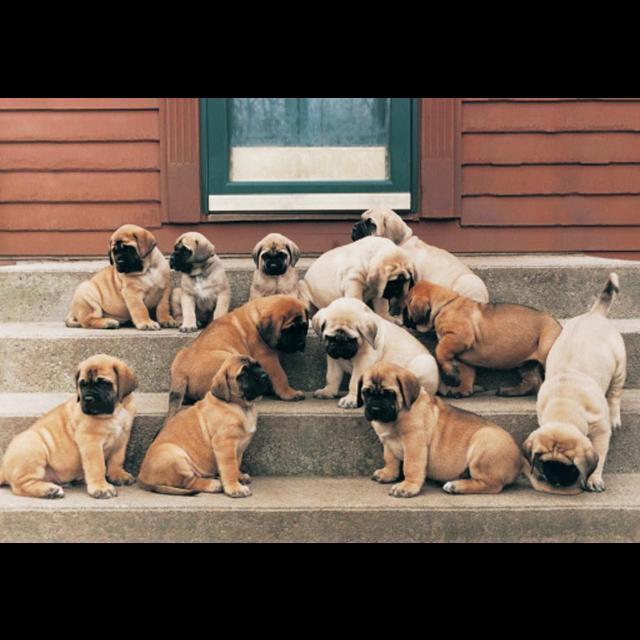mastiff: (354, 362, 583, 498), (524, 272, 629, 495), (1, 353, 139, 499), (139, 354, 274, 498), (405, 280, 563, 398), (168, 294, 310, 421), (352, 206, 490, 327), (312, 297, 441, 409), (65, 224, 177, 331), (299, 235, 418, 326), (170, 232, 232, 333), (249, 232, 301, 302)
